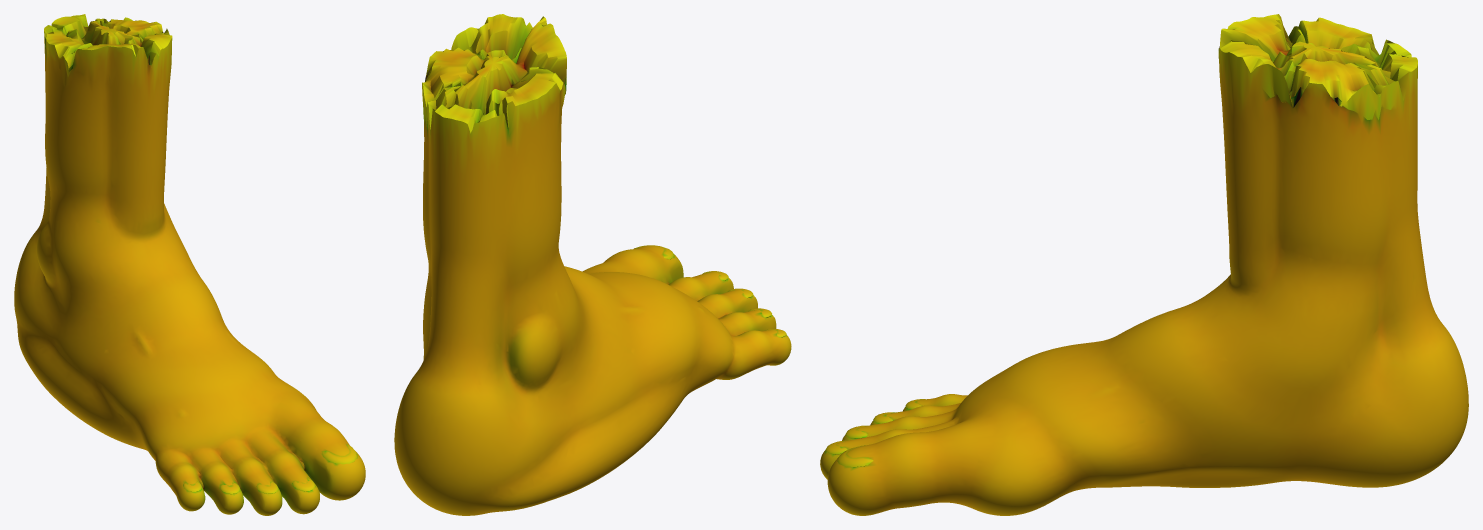
Rendered from foot.glb.
3 views of the same model, side by side, from view 1: azimuth 30°, elevation 25°; view 2: azimuth 150°, elevation 25°; view 3: azimuth 270°, elevation 25° (orthographic). The views are drawn at different scales.
Visible parts, largest first — view 1: foot; view 2: foot; view 3: foot.
Boxes of the visible parts, left/top/right/bottom form: foot: left=14, top=14, right=365, bottom=515; foot: left=394, top=14, right=791, bottom=515; foot: left=820, top=14, right=1468, bottom=515.
Size of the model in its own units: 1.59 by 3.2 by 4.2.
